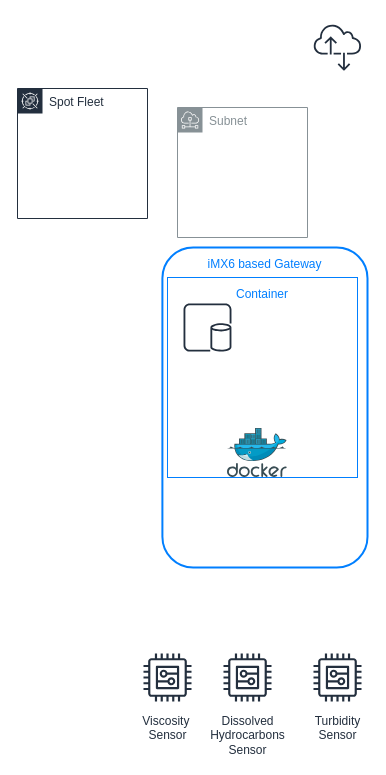
The diagram is 386 pixels wide and 775 high, and some of its shapes have lost their labels. The centre of each missing label's shape, as x and y in pixels:
Internet alt2: point 337,47
Log Data and Events: point 207,327
